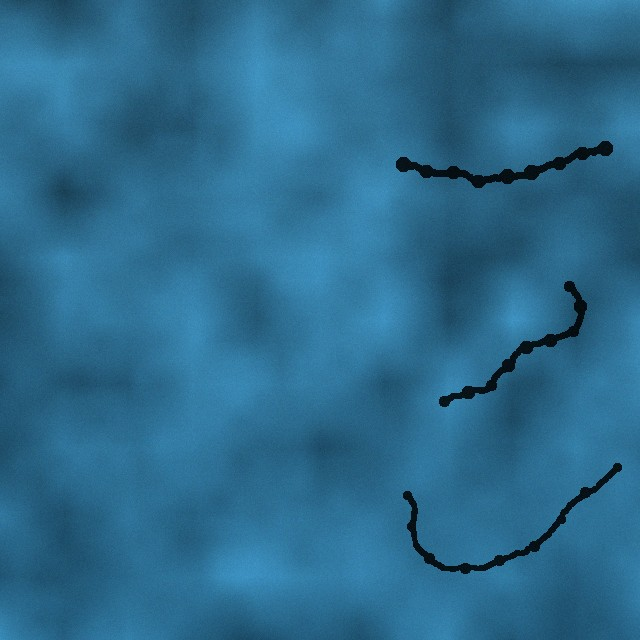crack: (402, 462, 623, 574), (437, 280, 587, 408), (396, 141, 612, 188)
